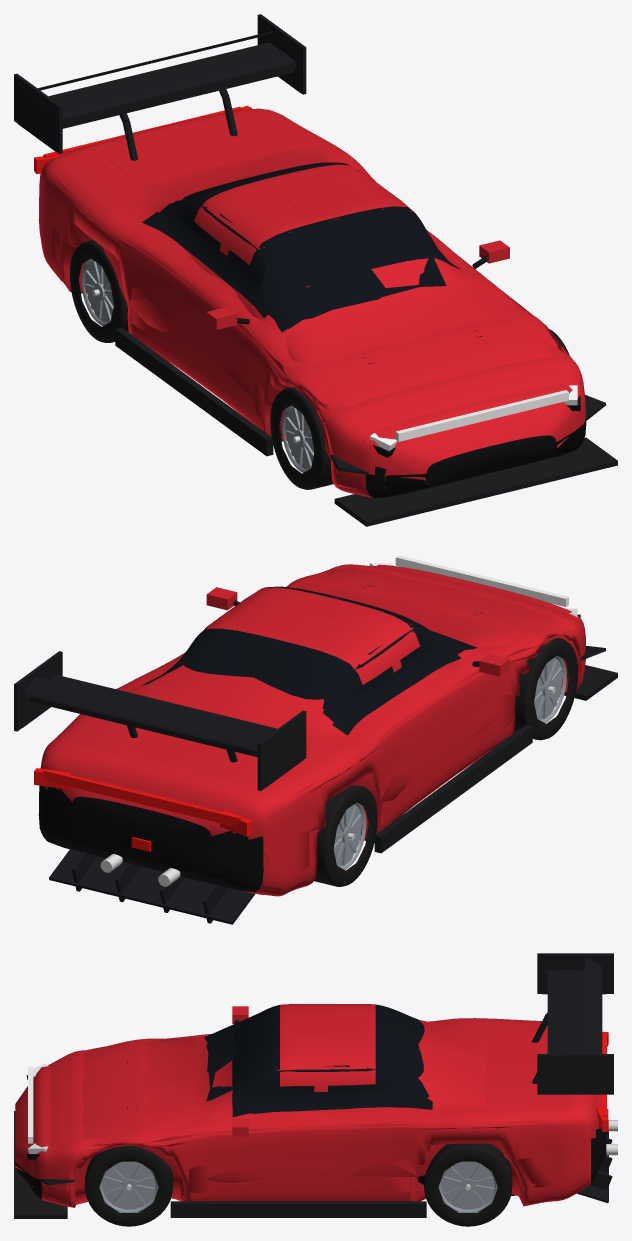
Rendered from gt3.raw.glb.
3 views of the same model, one above another, from view 1: azimuth 30°, elevation 25°; view 2: azimuth 150°, elevation 25°; view 3: azimuth 270°, elevation 25° (orthographic). The views are drawn at different scales.
Parts seen in each view (by area): view 1: body (×3), carbon (×3), rubber (×4), paint, headlight, rim (×2), taillight; view 2: body (×3), carbon (×2), rubber (×4), taillight (×2), rim (×4), paint, headlight, chrome; view 3: body (×3), carbon (×2), rubber (×4), rim (×6), paint, headlight, taillight.
Part boxes in pixels (x1,y1,x2,y2): body (×3): (38,108,586,498); carbon (×3): (14,14,617,526); rubber (×4): (70,240,333,489); paint: (206,192,509,329); headlight: (395,390,568,441); rim (×2): (81,259,313,472); taillight: (34,105,251,174); body (×3): (38,564,585,896); carbon (×2): (14,645,617,924); rubber (×4): (314,638,578,886); taillight (×2): (34,768,251,836); rim (×4): (333,656,566,869); paint: (206,587,509,676); headlight: (395,555,568,606); chrome: (100,854,180,886); body (×3): (15,1004,606,1207); carbon (×2): (14,953,613,1218); rubber (×4): (85,1143,512,1226); rim (×6): (99,1161,497,1212); paint: (232,1006,326,1136); headlight: (28,1066,33,1143); taillight: (596,1031,608,1132).
Bounding box in the file's own units: 2.24 × 1.47 × 4.72.
